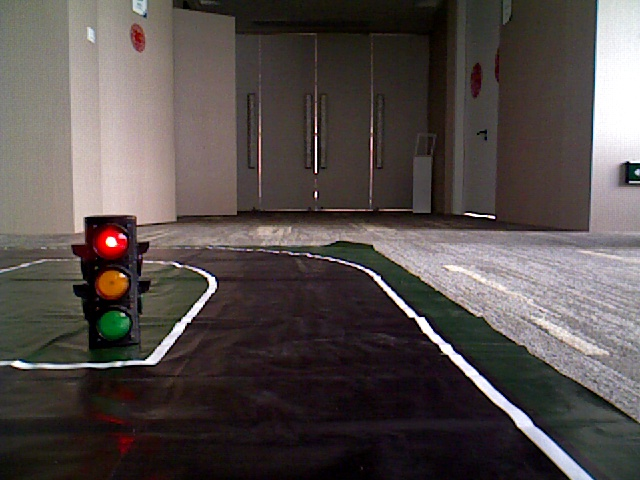red: (87, 220, 132, 340)
